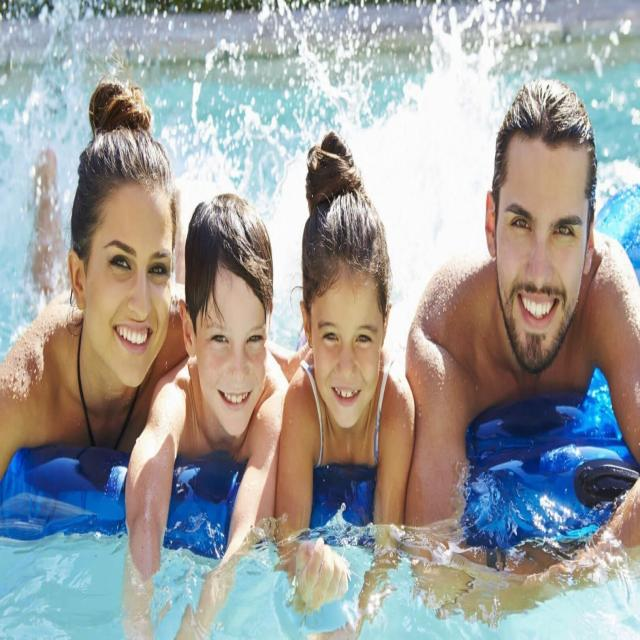adult: (407, 68, 640, 640), (0, 75, 189, 491)
child: (125, 192, 286, 617), (275, 134, 413, 613)
